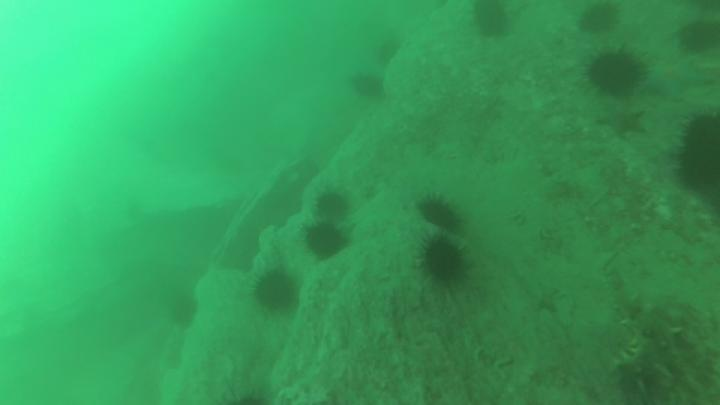echinus: (622, 307, 684, 375)
holothurian: (650, 57, 712, 98), (595, 106, 646, 138)
starfish: (681, 115, 720, 201), (589, 50, 645, 96), (424, 238, 467, 282), (673, 20, 720, 53), (255, 274, 294, 309), (305, 224, 343, 259), (580, 5, 618, 38), (420, 200, 457, 232), (473, 2, 506, 36), (318, 191, 347, 220), (352, 77, 382, 100)
